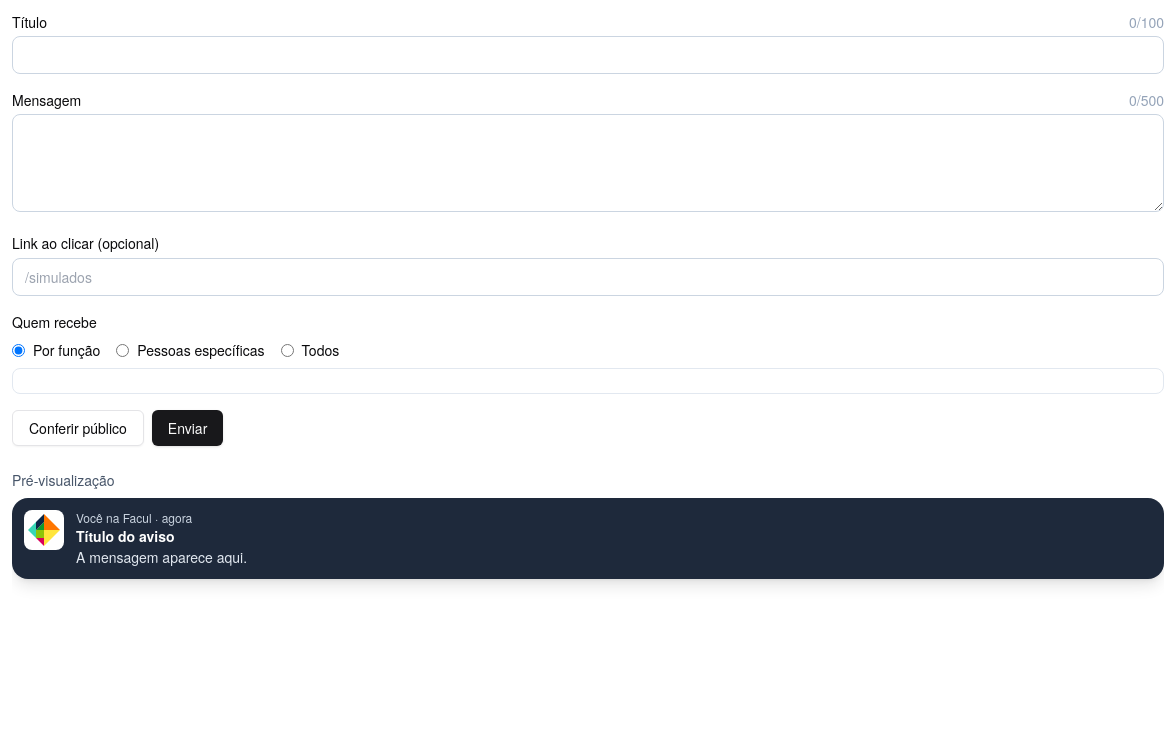
Scenario: NovaNotificacao › ⚠️ conferir mostra quem vê na central E quem tem push
Type "Simulado liberado" into the field labelled "Título 0/100" at (588, 55), box [12,36,1164,74]
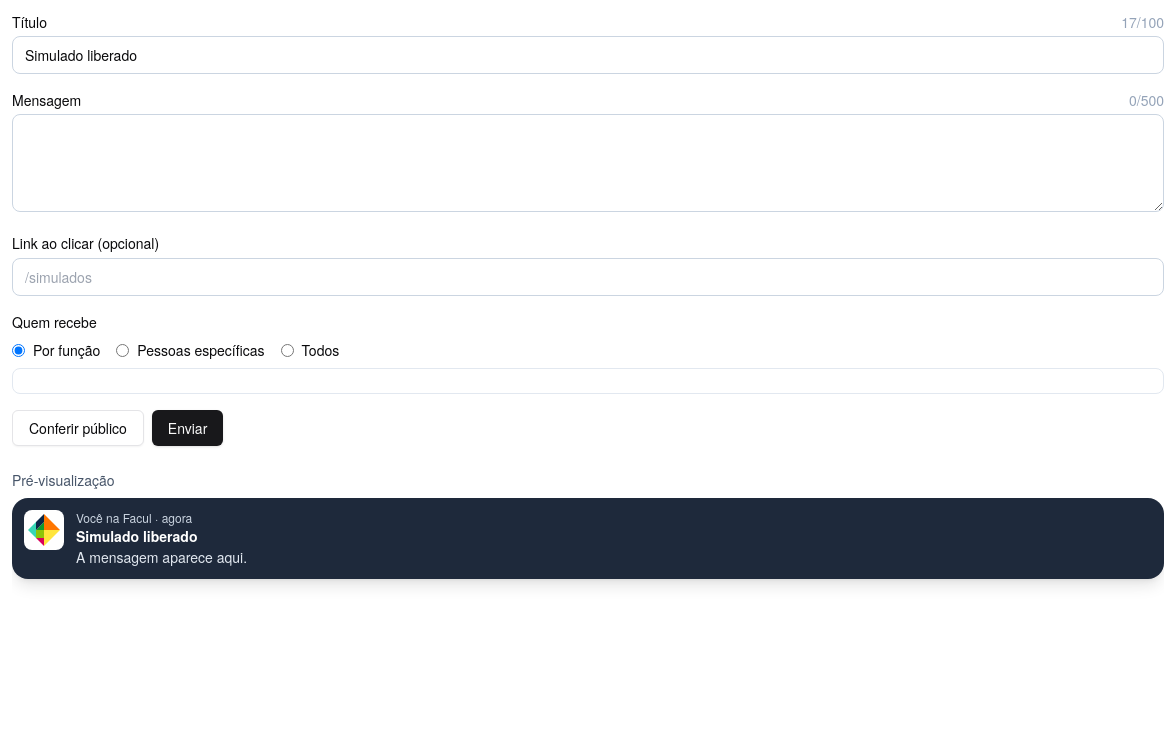
Type "O simulado de sábado já está no ar." into the text box labelled "Mensagem 0/500" at (588, 163), box [12,114,1164,212]
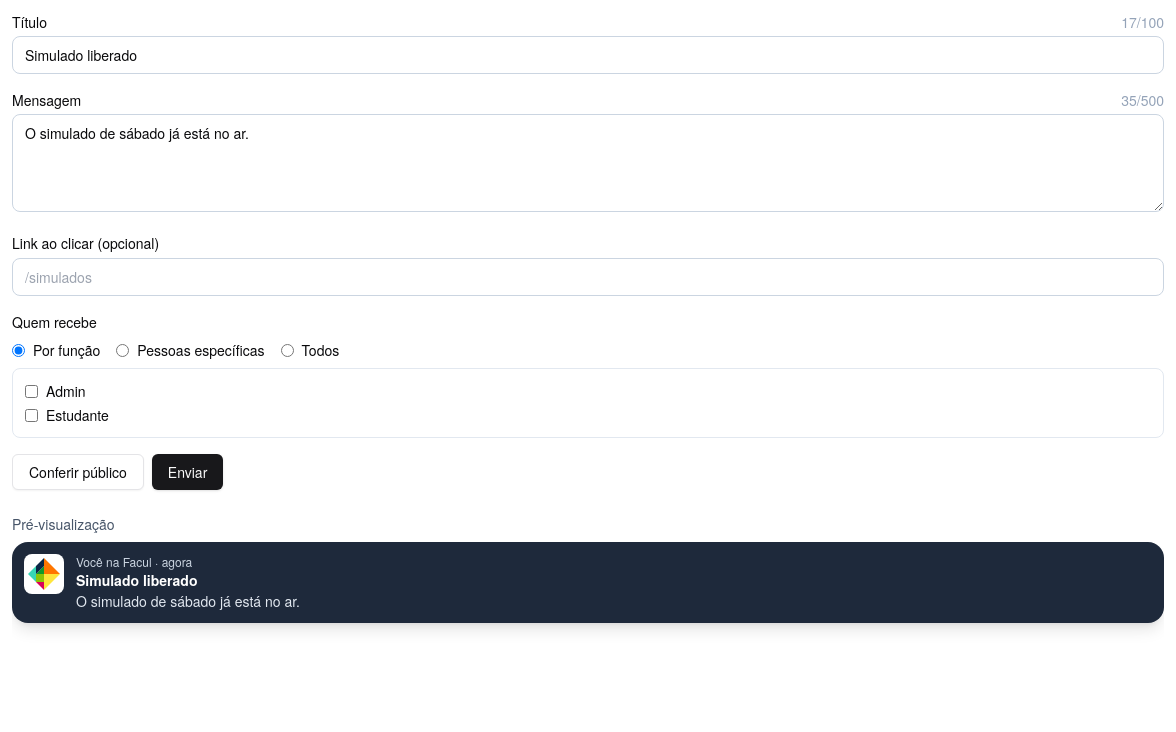
Click the checkbox labelled "Admin" at (32, 391), box [25,384,38,398]
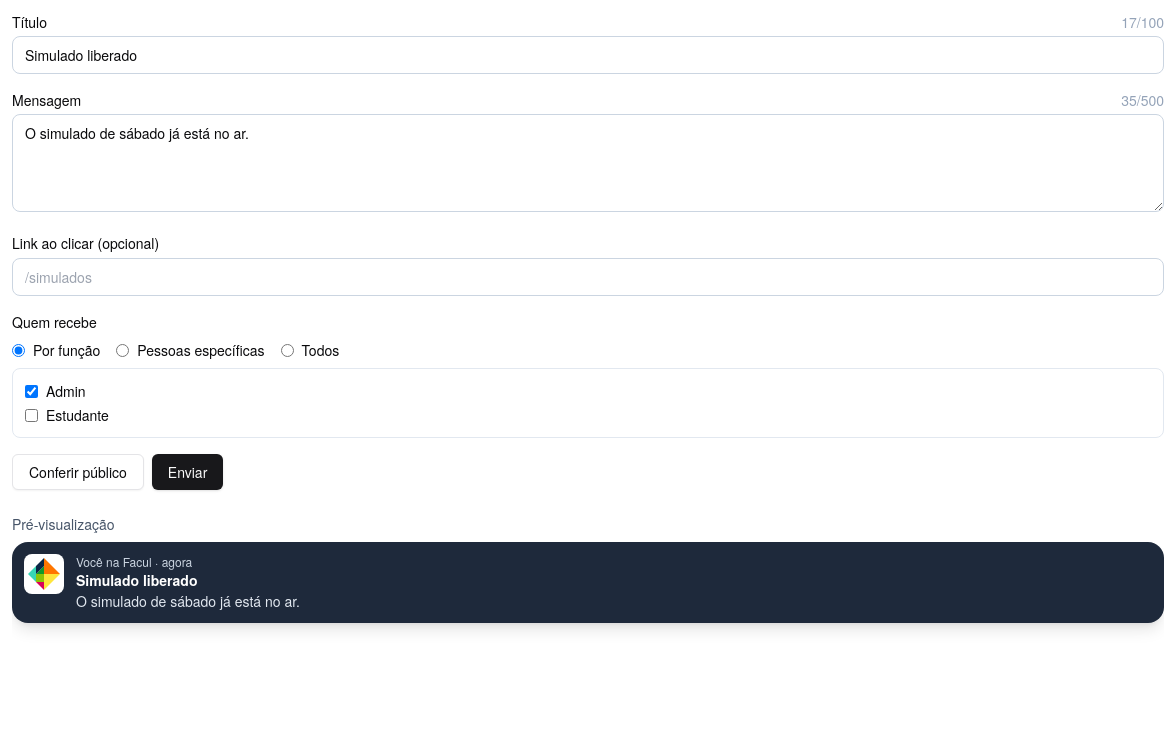
Click the button "Conferir público" at (78, 472), box [12,454,144,490]
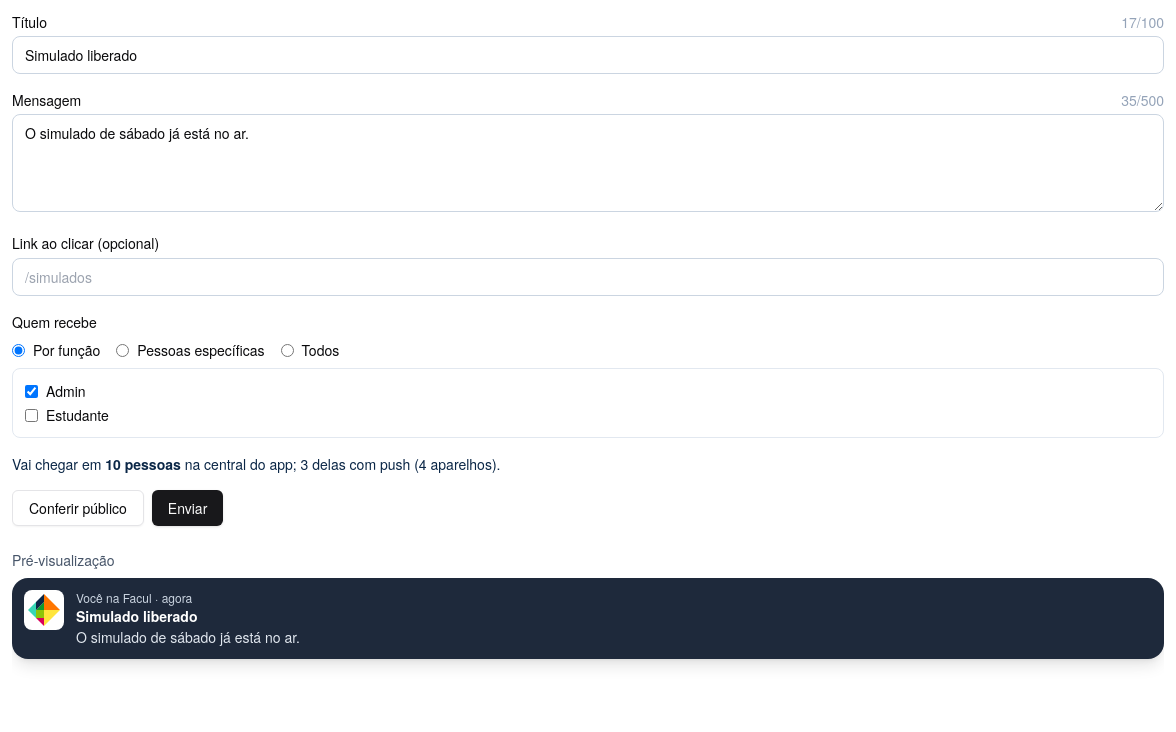
Expected: the message reads "Vai chegar em 10 pessoas na central do app; 3 delas com push (4 aparelhos).", [12,454,500,474]
